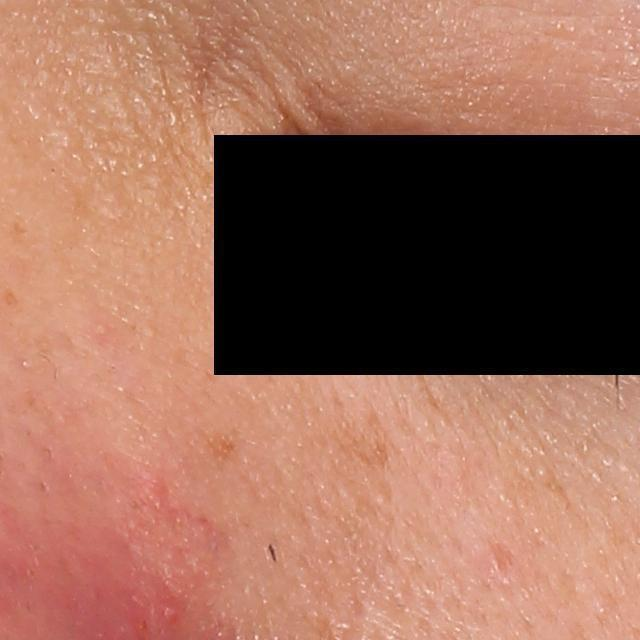melasma: (325, 400, 397, 473), (203, 432, 242, 466)
